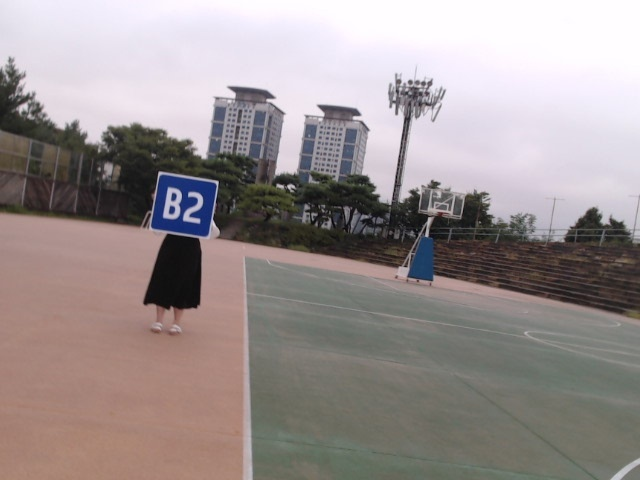delivery_b2: (148, 173, 218, 239)
